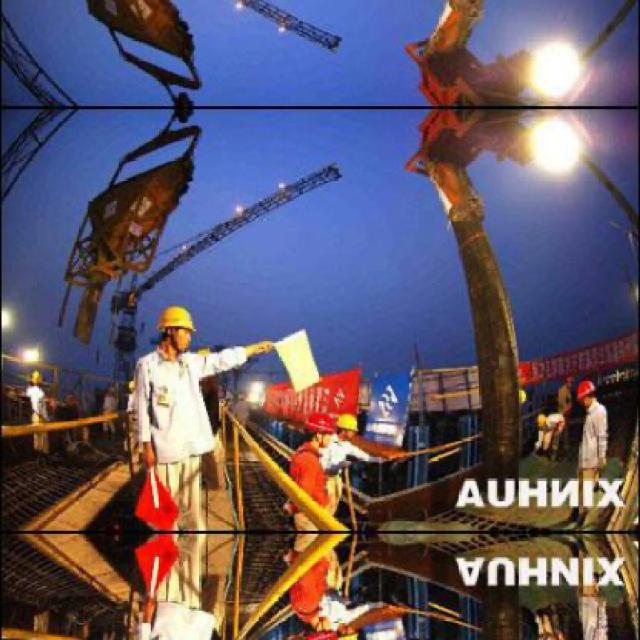con casco: (150, 308, 210, 359)
